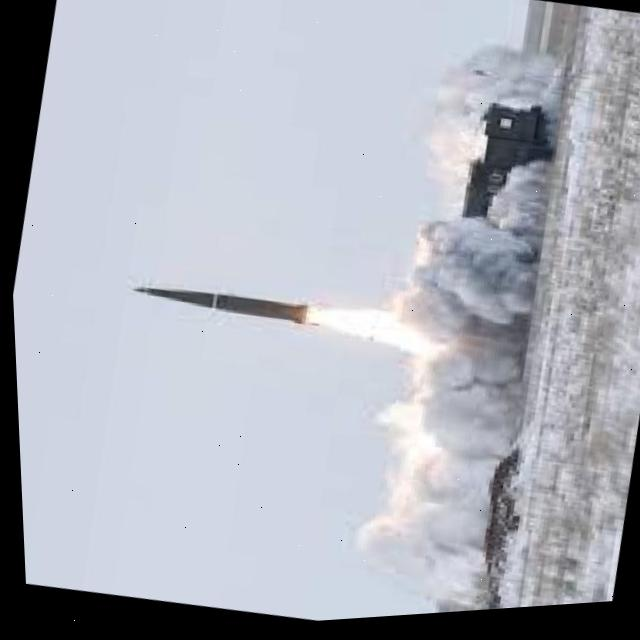missile: (117, 261, 326, 361)
